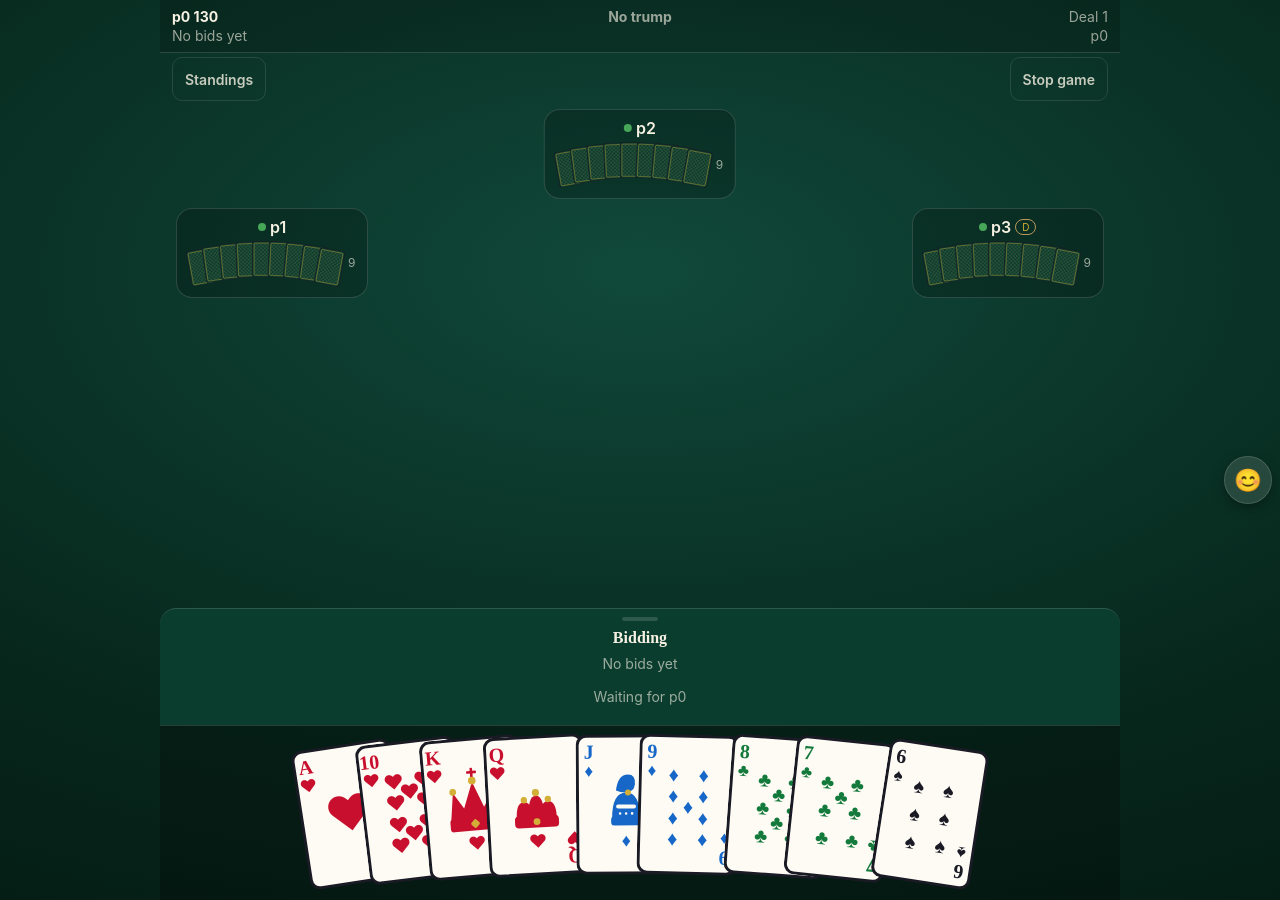
Test: standings › opens the full standings on demand and closes again
Click the button "Standings" at (219, 79), box [172, 57, 266, 101]
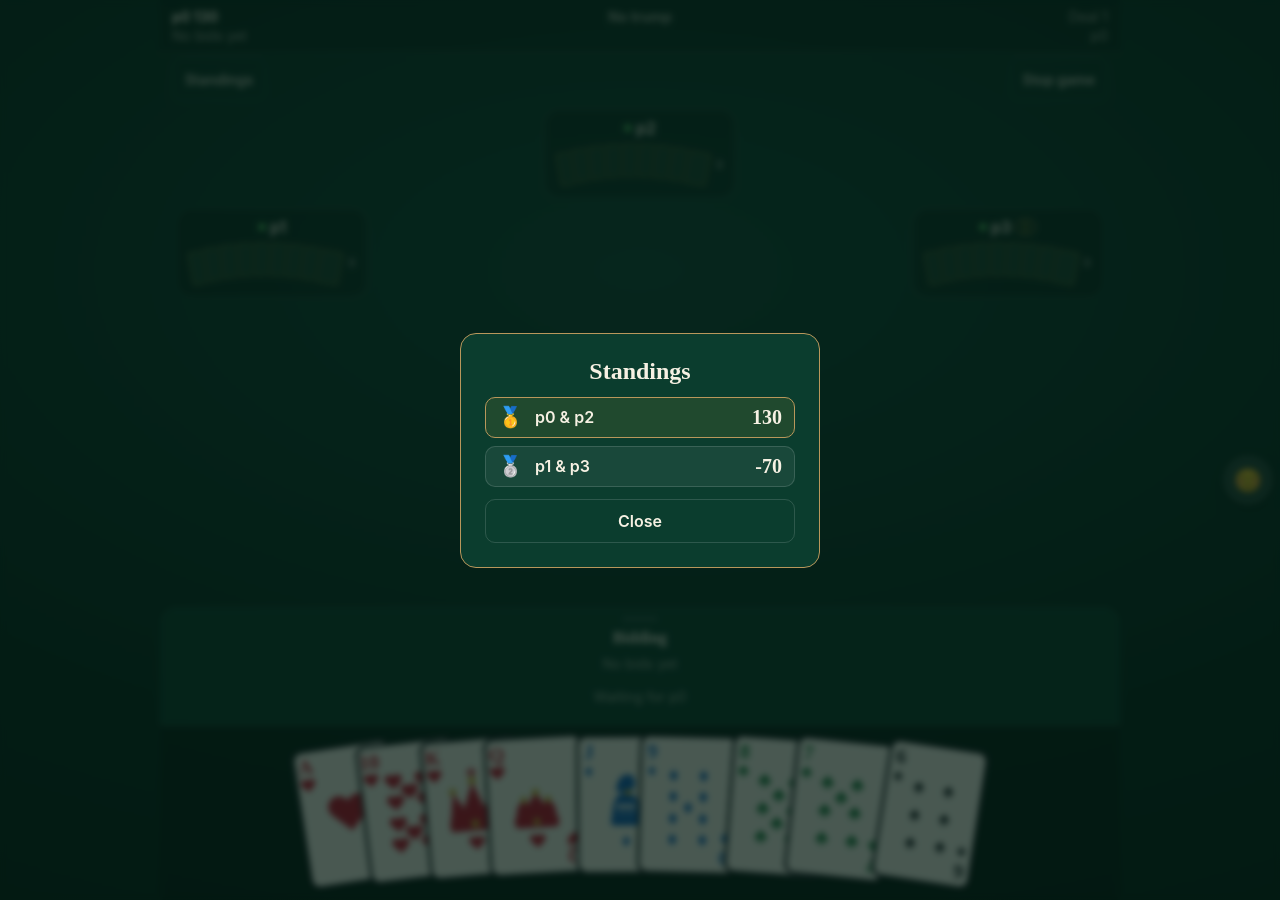
Now the text "p0 & p2" is shown, box [535, 407, 594, 427]
Now the text "p1 & p3" is shown, box [535, 456, 590, 476]
Now the text "130" is shown, box [752, 406, 782, 428]
Click the button "Close" at (640, 520), box [485, 498, 795, 542]
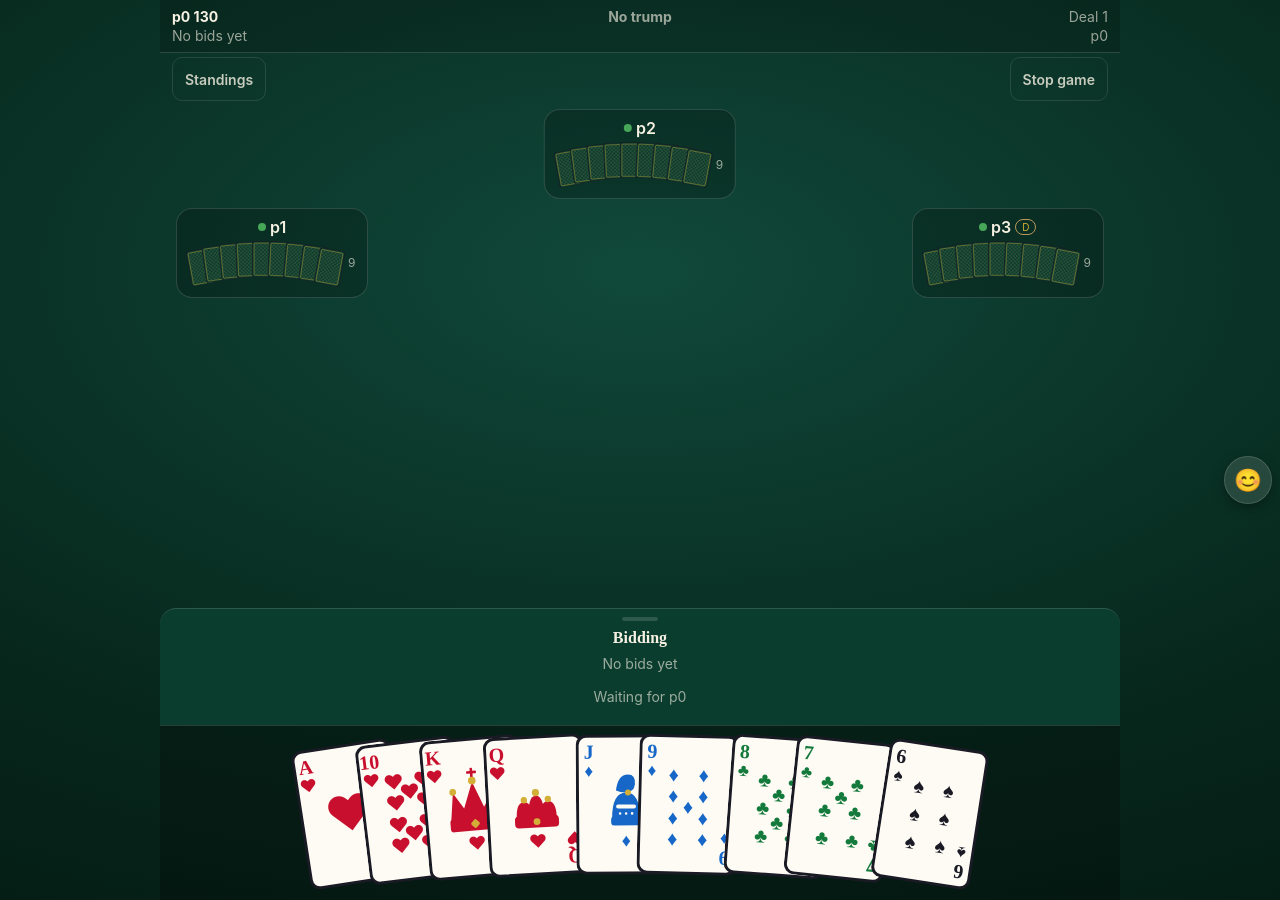
Now the dialog is gone
